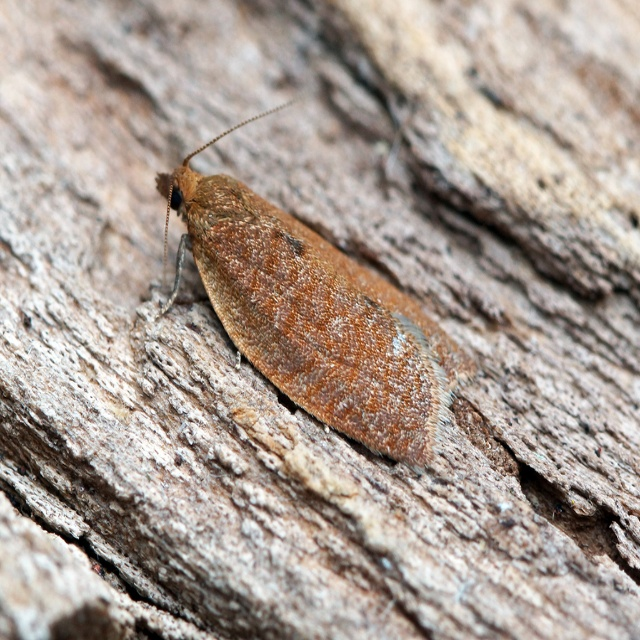Moths and butterflies: (152, 96, 483, 477)
